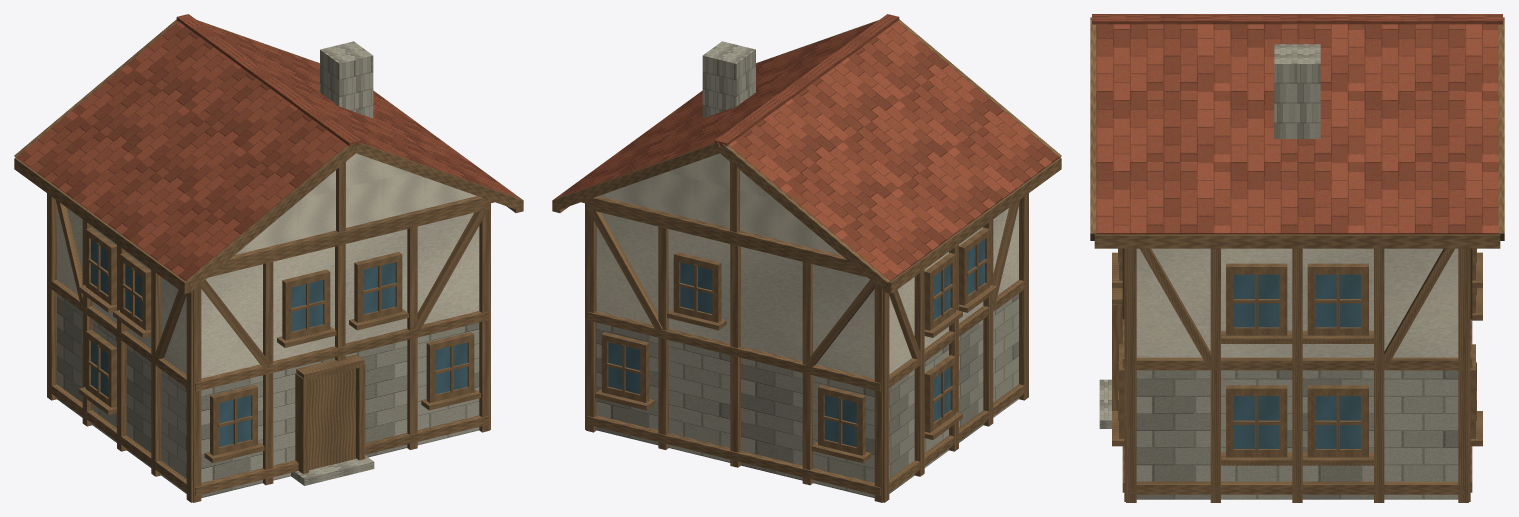
The picture shows the model from 3 angles, left to right: view 1: azimuth 30°, elevation 25°; view 2: azimuth 150°, elevation 25°; view 3: azimuth 270°, elevation 25°; orthographic projection. The views are drawn at different scales.
Parts seen in each view (by area): view 1: house-wood, house-roof, house-plaster, house-stone, house-glass; view 2: house-wood, house-roof, house-plaster, house-stone, house-glass; view 3: house-roof, house-wood, house-stone, house-plaster, house-glass.
Boxes of the visible parts, <box> form: house-wood: <box>14,19,523,502</box>; house-roof: <box>16,14,520,280</box>; house-plaster: <box>57,153,479,378</box>; house-stone: <box>57,41,479,497</box>; house-glass: <box>91,239,467,446</box>; house-wood: <box>552,19,1061,502</box>; house-roof: <box>555,14,1059,280</box>; house-plaster: <box>596,153,1018,378</box>; house-stone: <box>596,41,1018,497</box>; house-glass: <box>608,239,984,446</box>; house-roof: <box>1092,14,1502,234</box>; house-wood: <box>1090,17,1504,502</box>; house-stone: <box>1099,44,1458,499</box>; house-plaster: <box>1136,248,1458,357</box>; house-glass: <box>1234,274,1360,448</box>.
Size of the model in its own units: 7.98 by 7.7 by 7.1.
5 materials, 5 textured.
